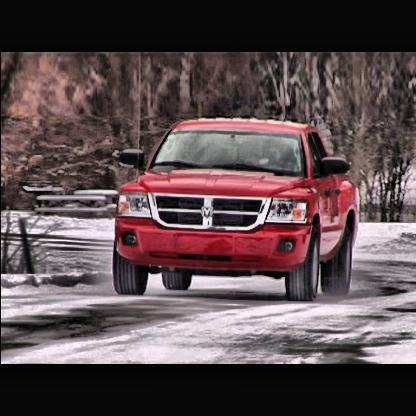Dodge Dakota Crew Cab 2010: (112, 115, 362, 306)
